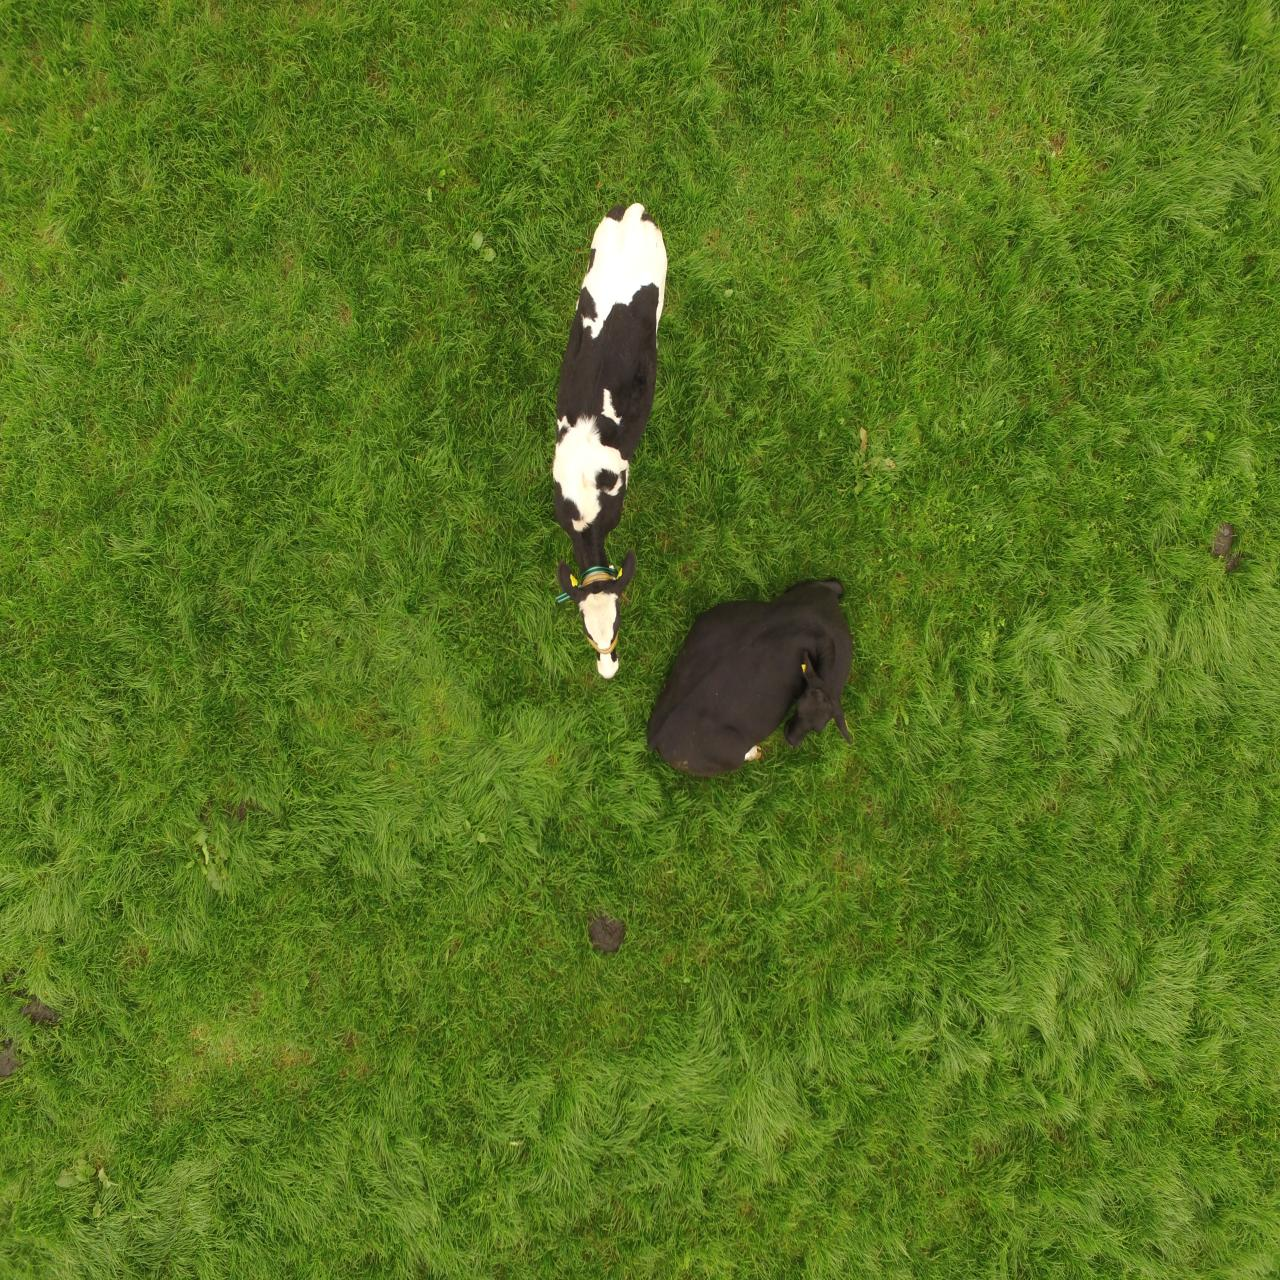cow: (519, 183, 676, 701), (629, 556, 866, 856)
